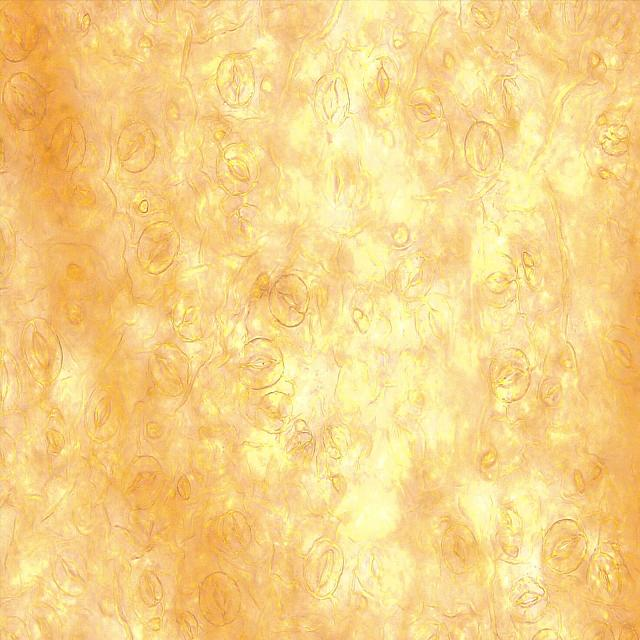Stomata: (2, 71, 48, 132), (22, 318, 63, 385), (542, 518, 588, 575), (136, 220, 182, 276), (198, 570, 242, 627), (238, 336, 284, 390), (488, 346, 531, 403), (386, 411, 426, 472), (267, 272, 310, 328), (478, 250, 519, 308), (414, 292, 454, 351), (147, 342, 190, 396), (123, 455, 165, 510), (464, 121, 504, 178), (217, 142, 259, 196), (304, 540, 343, 598), (600, 325, 640, 381), (51, 115, 88, 175), (84, 384, 122, 442), (311, 72, 350, 128), (216, 52, 255, 108), (0, 0, 35, 62), (116, 120, 156, 174), (226, 202, 264, 258), (363, 54, 401, 108), (320, 154, 356, 211), (394, 252, 435, 302), (441, 523, 478, 575), (406, 87, 443, 139), (356, 544, 392, 597), (508, 577, 548, 623), (54, 547, 90, 597), (586, 552, 622, 602), (171, 294, 209, 341), (490, 76, 523, 128), (254, 390, 293, 433), (27, 601, 62, 640), (562, 0, 600, 34), (222, 511, 252, 554), (321, 422, 350, 462), (0, 215, 18, 278), (286, 431, 314, 466), (138, 571, 164, 607), (140, 0, 175, 23), (539, 377, 563, 408)
